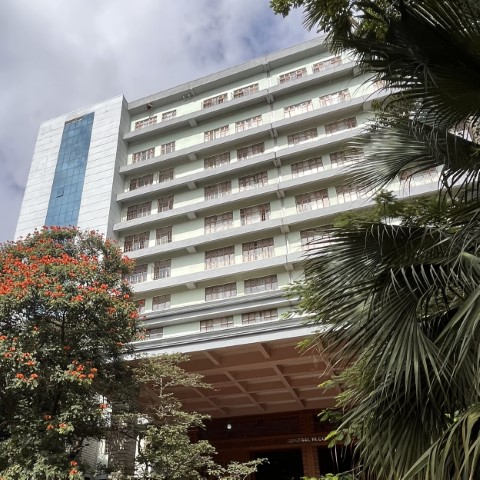Central Block: (19, 88, 469, 472)
